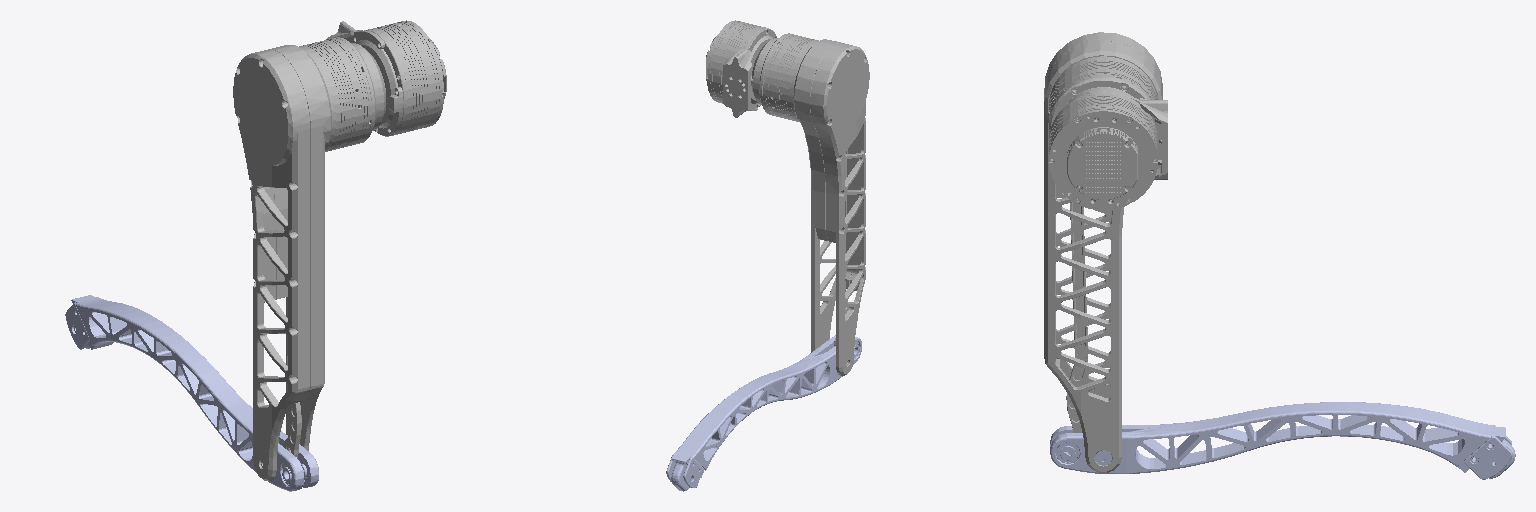
The robot description file, URDF, robot "URDF_12":
<?xml version="1.0" encoding="utf-8"?>
<!-- This URDF was automatically created by SolidWorks to URDF Exporter! Originally created by [author] ([email redacted]) 
     Commit Version: 1.6.0-4-g7f85cfe  Build Version: 1.6.7995.38578
     For more information, please see http://wiki.ros.org/sw_urdf_exporter -->
<robot
  name="URDF_12">
  <link
    name="base_link">
    <inertial>
      <origin
        xyz="-0.038225 -0.045584 0.12824"
        rpy="0 0 0" />
      <mass
        value="2.20928" />
      <inertia
        ixx="0.0039704"
        ixy="2.6662E-05"
        ixz="5.7974E-06"
        iyy="0.0055375"
        iyz="2.1256E-06"
        izz="0.0080598" />
    </inertial>
    <visual>
      <origin
        xyz="0 0 0"
        rpy="0 0 0" />
      <geometry>
        <mesh
          filename="package://URDF_12/meshes/base_link.STL" />
      </geometry>
      <material
        name="">
        <color
          rgba="0.75294 0.75294 0.75294 1" />
      </material>
    </visual>
    <collision>
      <origin
        xyz="0 0 0"
        rpy="0 0 0" />
      <geometry>
        <mesh
          filename="package://URDF_12/meshes/base_link.STL" />
      </geometry>
    </collision>
  </link>
  <link
    name="Hip_link">
    <inertial>
      <origin
        xyz="0.013108 -0.044177 0.00034503"
        rpy="0 0 0" />
      <mass
        value="1.00799" />
      <inertia
        ixx="0.00018713"
        ixy="-3.0023E-08"
        ixz="6.9168E-08"
        iyy="0.00011382"
        iyz="4.6352E-06"
        izz="8.916E-05" />
    </inertial>
    <visual>
      <origin
        xyz="0 0 0"
        rpy="0 0 0" />
      <geometry>
        <mesh
          filename="package://URDF_12/meshes/Hip_link.STL" />
      </geometry>
      <material
        name="">
        <color
          rgba="0.75294 0.75294 0.75294 1" />
      </material>
    </visual>
    <collision>
      <origin
        xyz="0 0 0"
        rpy="0 0 0" />
      <geometry>
        <mesh
          filename="package://URDF_12/meshes/Hip_link.STL" />
      </geometry>
    </collision>
  </link>
  <joint
    name="Hip"
    type="revolute">
    <origin
      xyz="0 0 0"
      rpy="0 0 0" />
    <parent
      link="base_link" />
    <child
      link="Hip_link" />
    <axis
      xyz="0 1 0" />
    <limit
      lower="-1.4399"
      upper="1.4399"
      effort="0"
      velocity="0" />
  </joint>
  <link
    name="Thigh_link">
    <inertial>
      <origin
        xyz="-0.075591 -0.0076549 -0.091964"
        rpy="0 0 0" />
      <mass
        value="2.00827" />
      <inertia
        ixx="0.012828"
        ixy="1.1342E-06"
        ixz="-1.7039E-05"
        iyy="0.012075"
        iyz="-0.00024099"
        izz="0.00082748" />
    </inertial>
    <visual>
      <origin
        xyz="0 0 0"
        rpy="0 0 0" />
      <geometry>
        <mesh
          filename="package://URDF_12/meshes/Thigh_link.STL" />
      </geometry>
      <material
        name="">
        <color
          rgba="0.75294 0.75294 0.75294 1" />
      </material>
    </visual>
    <collision>
      <origin
        xyz="0 0 0"
        rpy="0 0 0" />
      <geometry>
        <mesh
          filename="package://URDF_12/meshes/Thigh_link.STL" />
      </geometry>
    </collision>
  </link>
  <joint
    name="Thigh"
    type="revolute">
    <origin
      xyz="-0.0082 -0.058 0"
      rpy="0 0 0" />
    <parent
      link="Hip_link" />
    <child
      link="Thigh_link" />
    <axis
      xyz="1 0 0" />
    <limit
      lower="-2.9845"
      upper="2.9845"
      effort="0"
      velocity="0" />
  </joint>
  <link
    name="Calf_link">
    <inertial>
      <origin
        xyz="0.000235828141353409 0.0117246312395909 -0.152929505146333"
        rpy="0 0 0" />
      <mass
        value="0.533810178999466" />
      <inertia
        ixx="0.0076992247838026"
        ixy="2.80951023961327E-10"
        ixz="3.68529334750753E-10"
        iyy="0.00758489863409158"
        iyz="0.000426074550936931"
        izz="0.00016402112102885" />
    </inertial>
    <visual>
      <origin
        xyz="0 0 0"
        rpy="0 0 0" />
      <geometry>
        <mesh
          filename="package://URDF_12/meshes/Calf_link.STL" />
      </geometry>
      <material
        name="">
        <color
          rgba="0.792156862745098 0.819607843137255 0.933333333333333 1" />
      </material>
    </visual>
    <collision>
      <origin
        xyz="0 0 0"
        rpy="0 0 0" />
      <geometry>
        <mesh
          filename="package://URDF_12/meshes/Calf_link.STL" />
      </geometry>
    </collision>
  </link>
  <joint
    name="Calf"
    type="revolute">
    <origin
      xyz="-0.089 0 -0.35"
      rpy="0 0 0" />
    <parent
      link="Thigh_link" />
    <child
      link="Calf_link" />
    <axis
      xyz="1 0 0" />
    <limit
      lower="0.294"
      upper="2.793"
      effort="0"
      velocity="0" />
  </joint>
</robot>

--- What the picture shows (computed from the rendered views, not written in the file) ---
3 views of the same robot in one strip: view 1: azimuth 30°, elevation 25°; view 2: azimuth 150°, elevation 25°; view 3: azimuth 270°, elevation 25° (orthographic).
Model URDF_12 with 4 links and 3 joints (3 revolute), rooted at base_link, posed joints at zero except 1 at the middle of their limits (Calf = 1.54).
Links seen in each view (by area): view 1: Thigh_link, Calf_link, Hip_link; view 2: Thigh_link, Calf_link, Hip_link; view 3: Thigh_link, Calf_link, Hip_link.
Boxes of the visible links, bbox=[...] form: Thigh_link: bbox=[233, 37, 385, 480]; Calf_link: bbox=[65, 295, 318, 491]; Hip_link: bbox=[326, 20, 446, 136]; Thigh_link: bbox=[751, 33, 869, 375]; Calf_link: bbox=[666, 335, 861, 491]; Hip_link: bbox=[706, 20, 776, 117]; Thigh_link: bbox=[1044, 32, 1162, 472]; Calf_link: bbox=[1050, 402, 1515, 479]; Hip_link: bbox=[1049, 90, 1167, 209].
Size in the robot's own frame: 0.1747 by 0.422 by 0.4315 metres.
3 mesh visuals loaded from 4 distinct referenced files (3 binary STL); not drawn: 1 (reference not matched to a file when rendering).